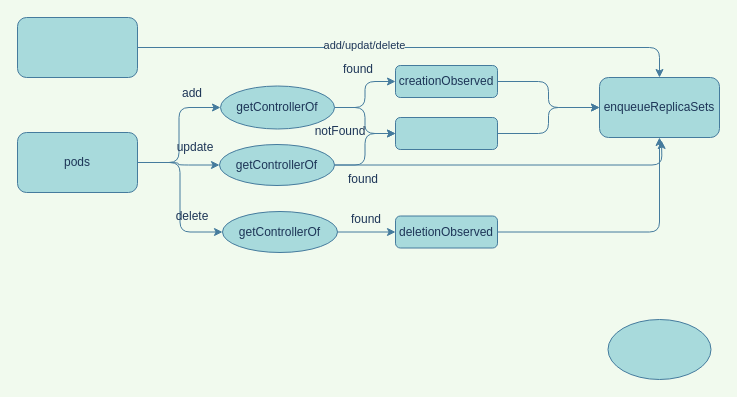
Some shapes in this 737 by 397 pixel diagram are drawn without their labels. The shapes that lost their labels are listed below. From the top down, each one's centre as x and y in pixels, then its label:
At (77,47): "replicasets".
At (446,133): "anyRSCanAdopt".
At (659,349): "syncReplicaSet".
